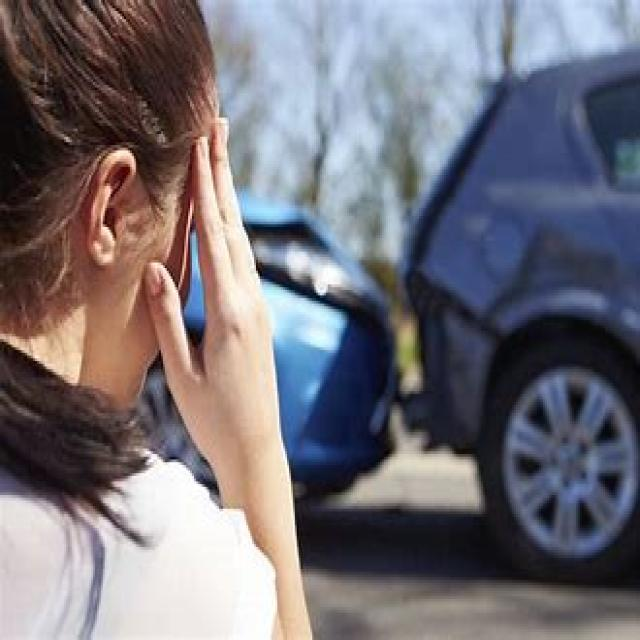Accident: (238, 98, 584, 486)
